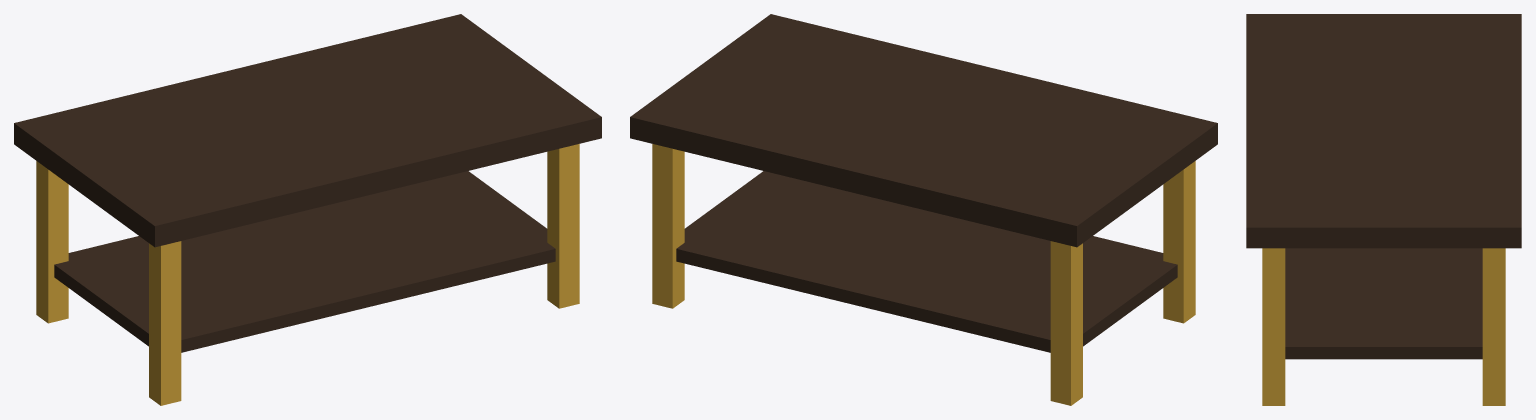
File: coffeeTable.glb
3 views of the same model, side by side, from view 1: azimuth 30°, elevation 25°; view 2: azimuth 150°, elevation 25°; view 3: azimuth 270°, elevation 25° (orthographic). The views are drawn at different scales.
Parts seen in each view (by area): view 1: coffeeTable-3a2a1e, coffeeTable-d8a93b; view 2: coffeeTable-3a2a1e, coffeeTable-d8a93b; view 3: coffeeTable-3a2a1e, coffeeTable-d8a93b.
Boxes of the visible parts, x1,y1,x2,y2 form: coffeeTable-3a2a1e: (14, 14, 601, 352); coffeeTable-d8a93b: (36, 144, 579, 405); coffeeTable-3a2a1e: (630, 14, 1217, 352); coffeeTable-d8a93b: (652, 144, 1195, 405); coffeeTable-3a2a1e: (1246, 14, 1521, 359); coffeeTable-d8a93b: (1262, 248, 1505, 405).
Size of the model in its own units: 1.1 by 0.445 by 0.6.
